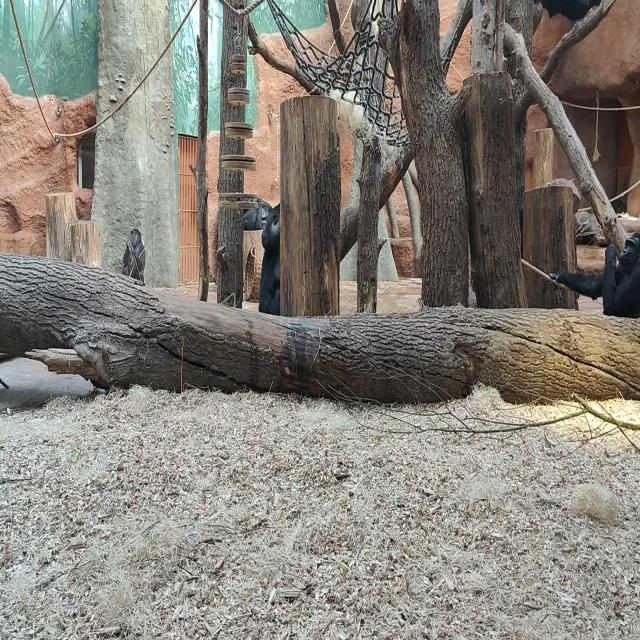monkey: (549, 230, 640, 319), (258, 202, 280, 316), (122, 229, 145, 282), (244, 198, 272, 230)
